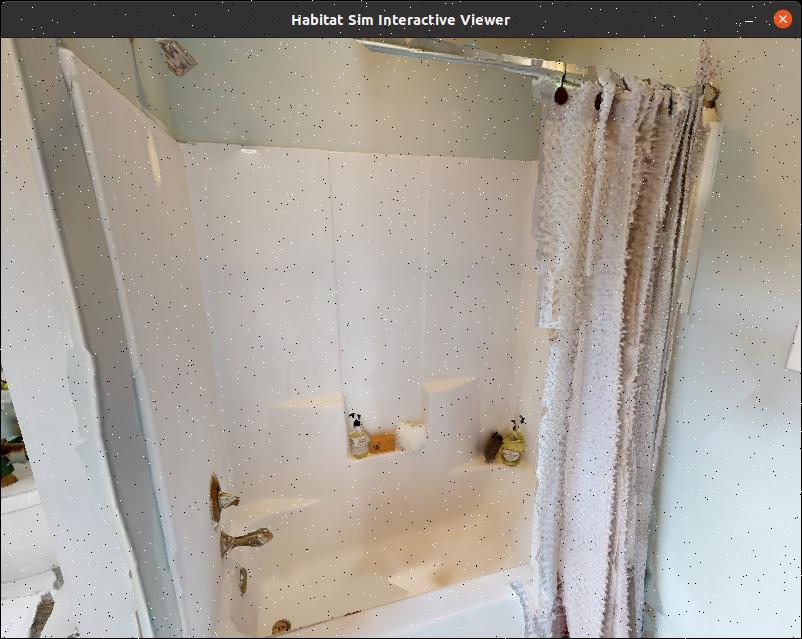shower: (7, 37, 670, 639)
